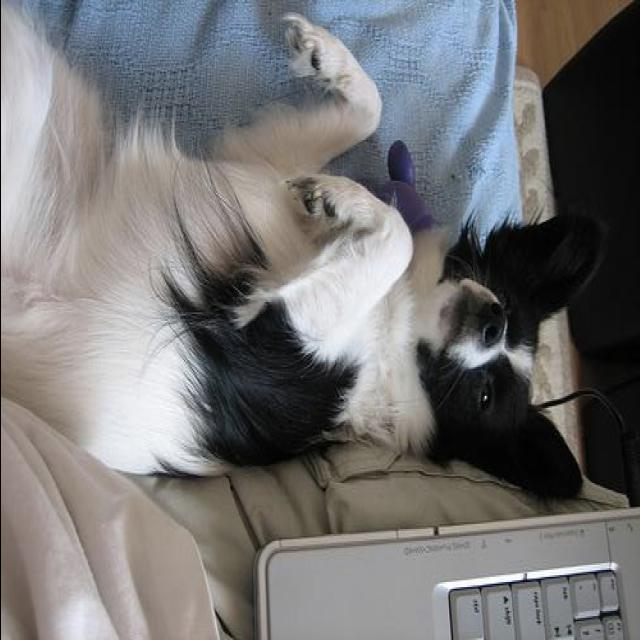papillon: (2, 3, 588, 507)
